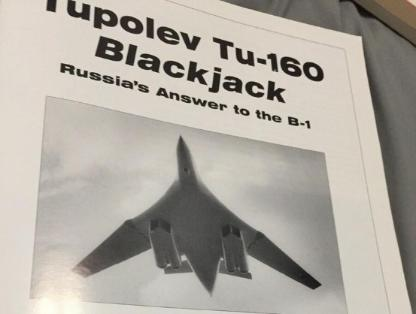Su34: (70, 134, 322, 296)
